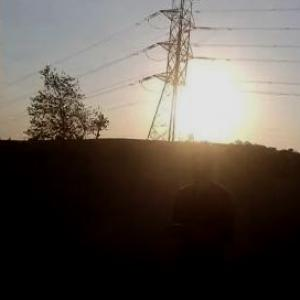follow: (166, 142, 240, 299)
